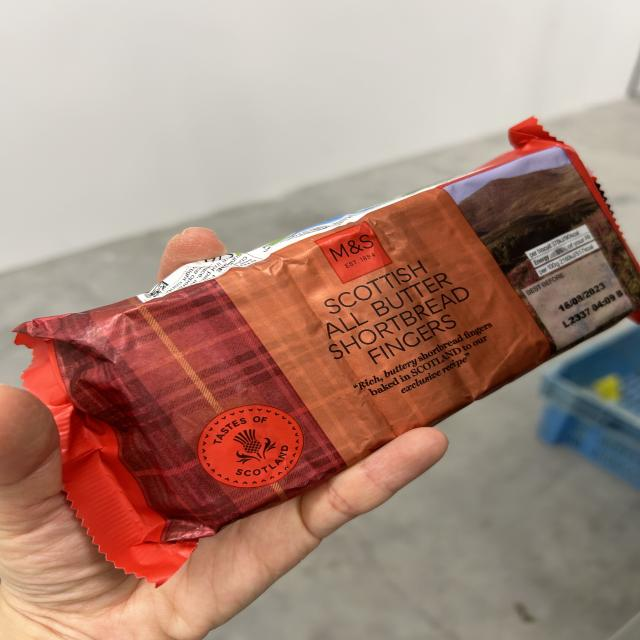object_name: (48, 172, 606, 488)
